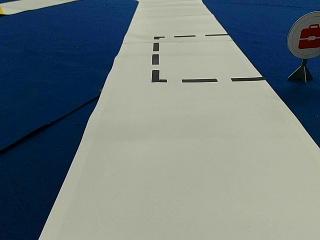company: (287, 11, 320, 57)
